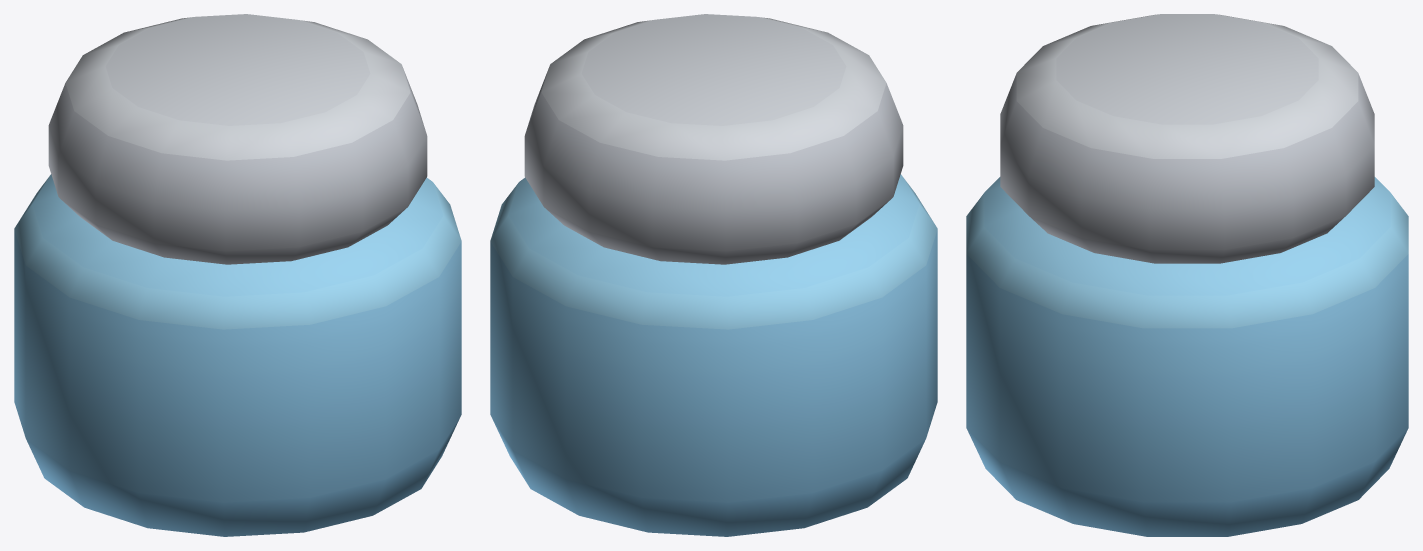
The model's file is Container Bathroom C-0kR8QSr5eU.glb.
The picture shows the model from 3 angles, left to right: view 1: azimuth 30°, elevation 25°; view 2: azimuth 150°, elevation 25°; view 3: azimuth 270°, elevation 25°; orthographic projection.
Visible parts, largest first — view 1: container_bathroom_C_blue; view 2: container_bathroom_C_blue; view 3: container_bathroom_C_blue.
Part boxes in pixels (x1,y1,x2,y2): container_bathroom_C_blue: [14, 14, 461, 536]; container_bathroom_C_blue: [490, 14, 937, 536]; container_bathroom_C_blue: [966, 14, 1408, 536].
Size of the model in its own units: 0.312 by 0.3119 by 0.3126.
1 material, 1 textured.
